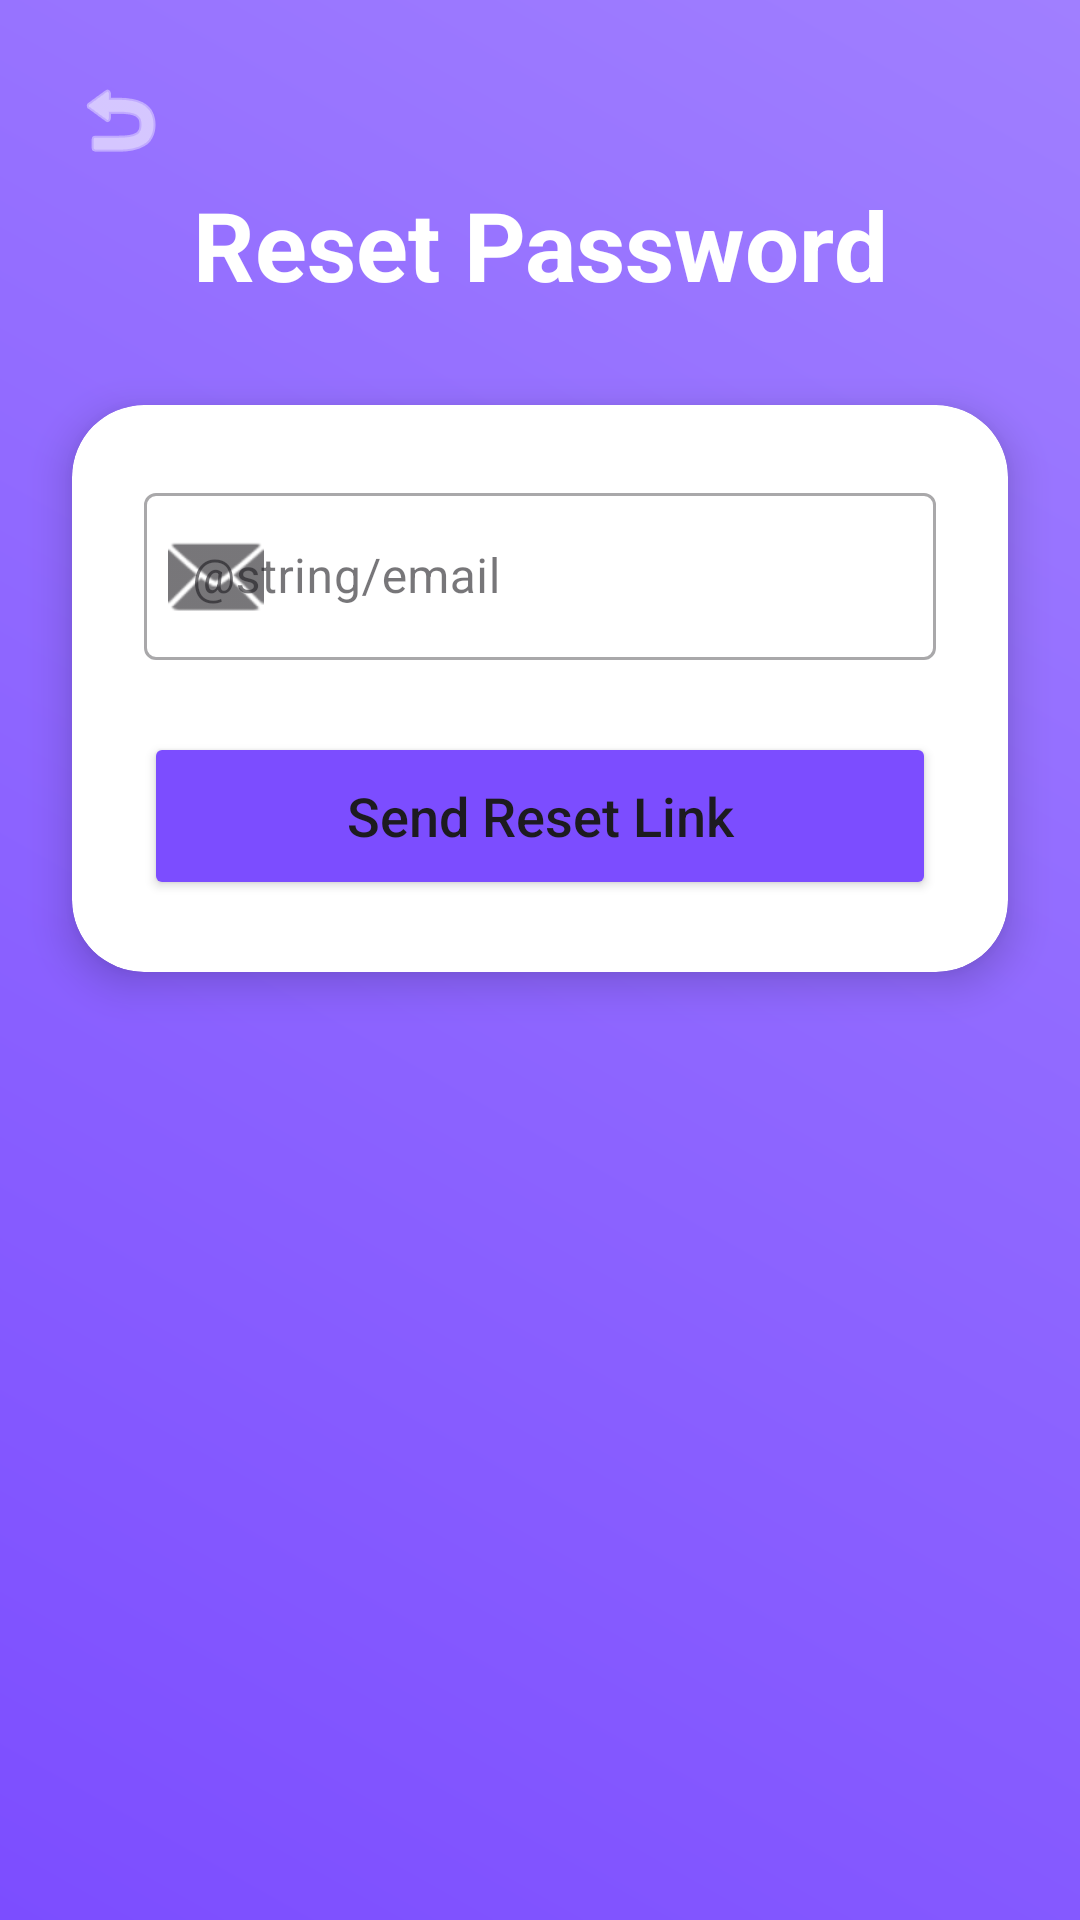

Icons on this 1080x1920 Android screen, each with its box as (x1, y1, x2, y2):
revert: (87, 90, 156, 152)
